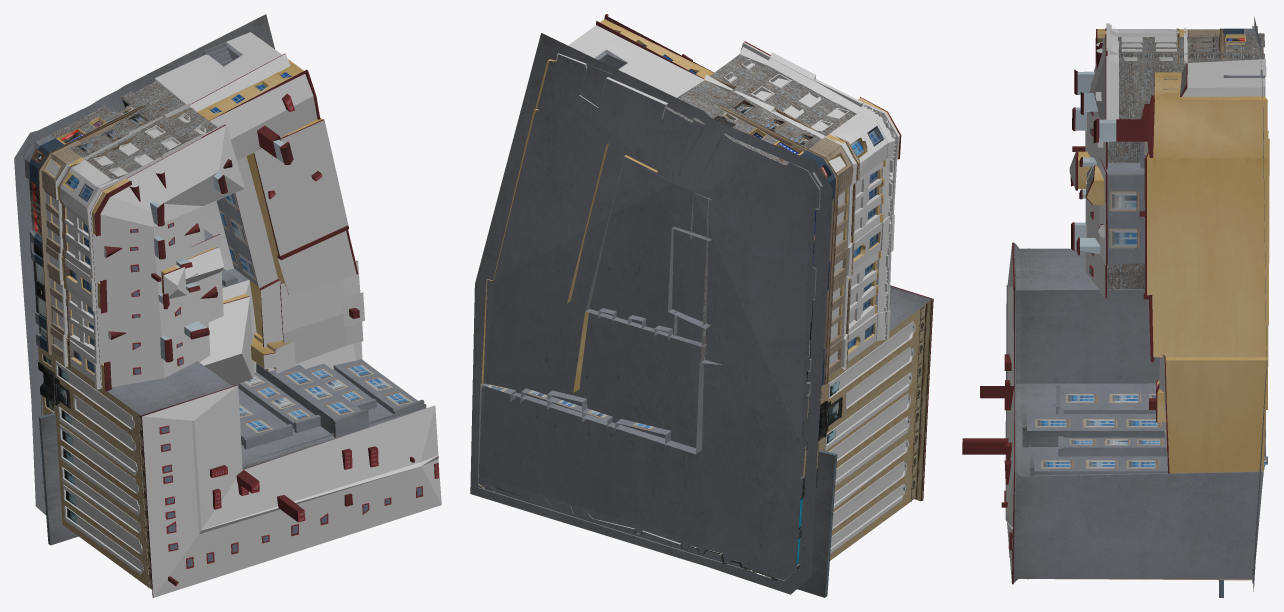
Rendered from Vabaduse10-origo.obj.
3 views of the same model, side by side, from view 1: azimuth 30°, elevation 25°; view 2: azimuth 150°, elevation 25°; view 3: azimuth 270°, elevation 25° (orthographic). The views are drawn at different scales.
Parts seen in each view (by area): view 1: Vabaduse_obj_1; view 2: Vabaduse_obj_1; view 3: Vabaduse_obj_1.
Part boxes in pixels (x1,y1,x2,y2): Vabaduse_obj_1: (14, 14, 441, 597); Vabaduse_obj_1: (470, 14, 933, 597); Vabaduse_obj_1: (962, 16, 1269, 597).
Bounding box in the file's own units: 47.12 × 64 × 34.93.
